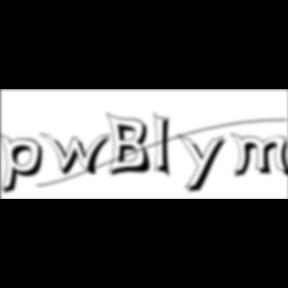B: (106, 111, 156, 179)
I: (154, 110, 178, 182)
p: (0, 132, 50, 198)
w: (40, 132, 118, 178)
y: (178, 132, 232, 196)
